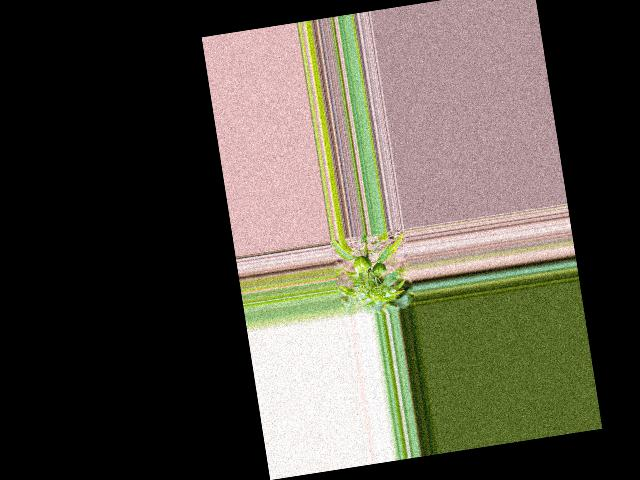bell_pepper: (371, 260, 388, 276)
